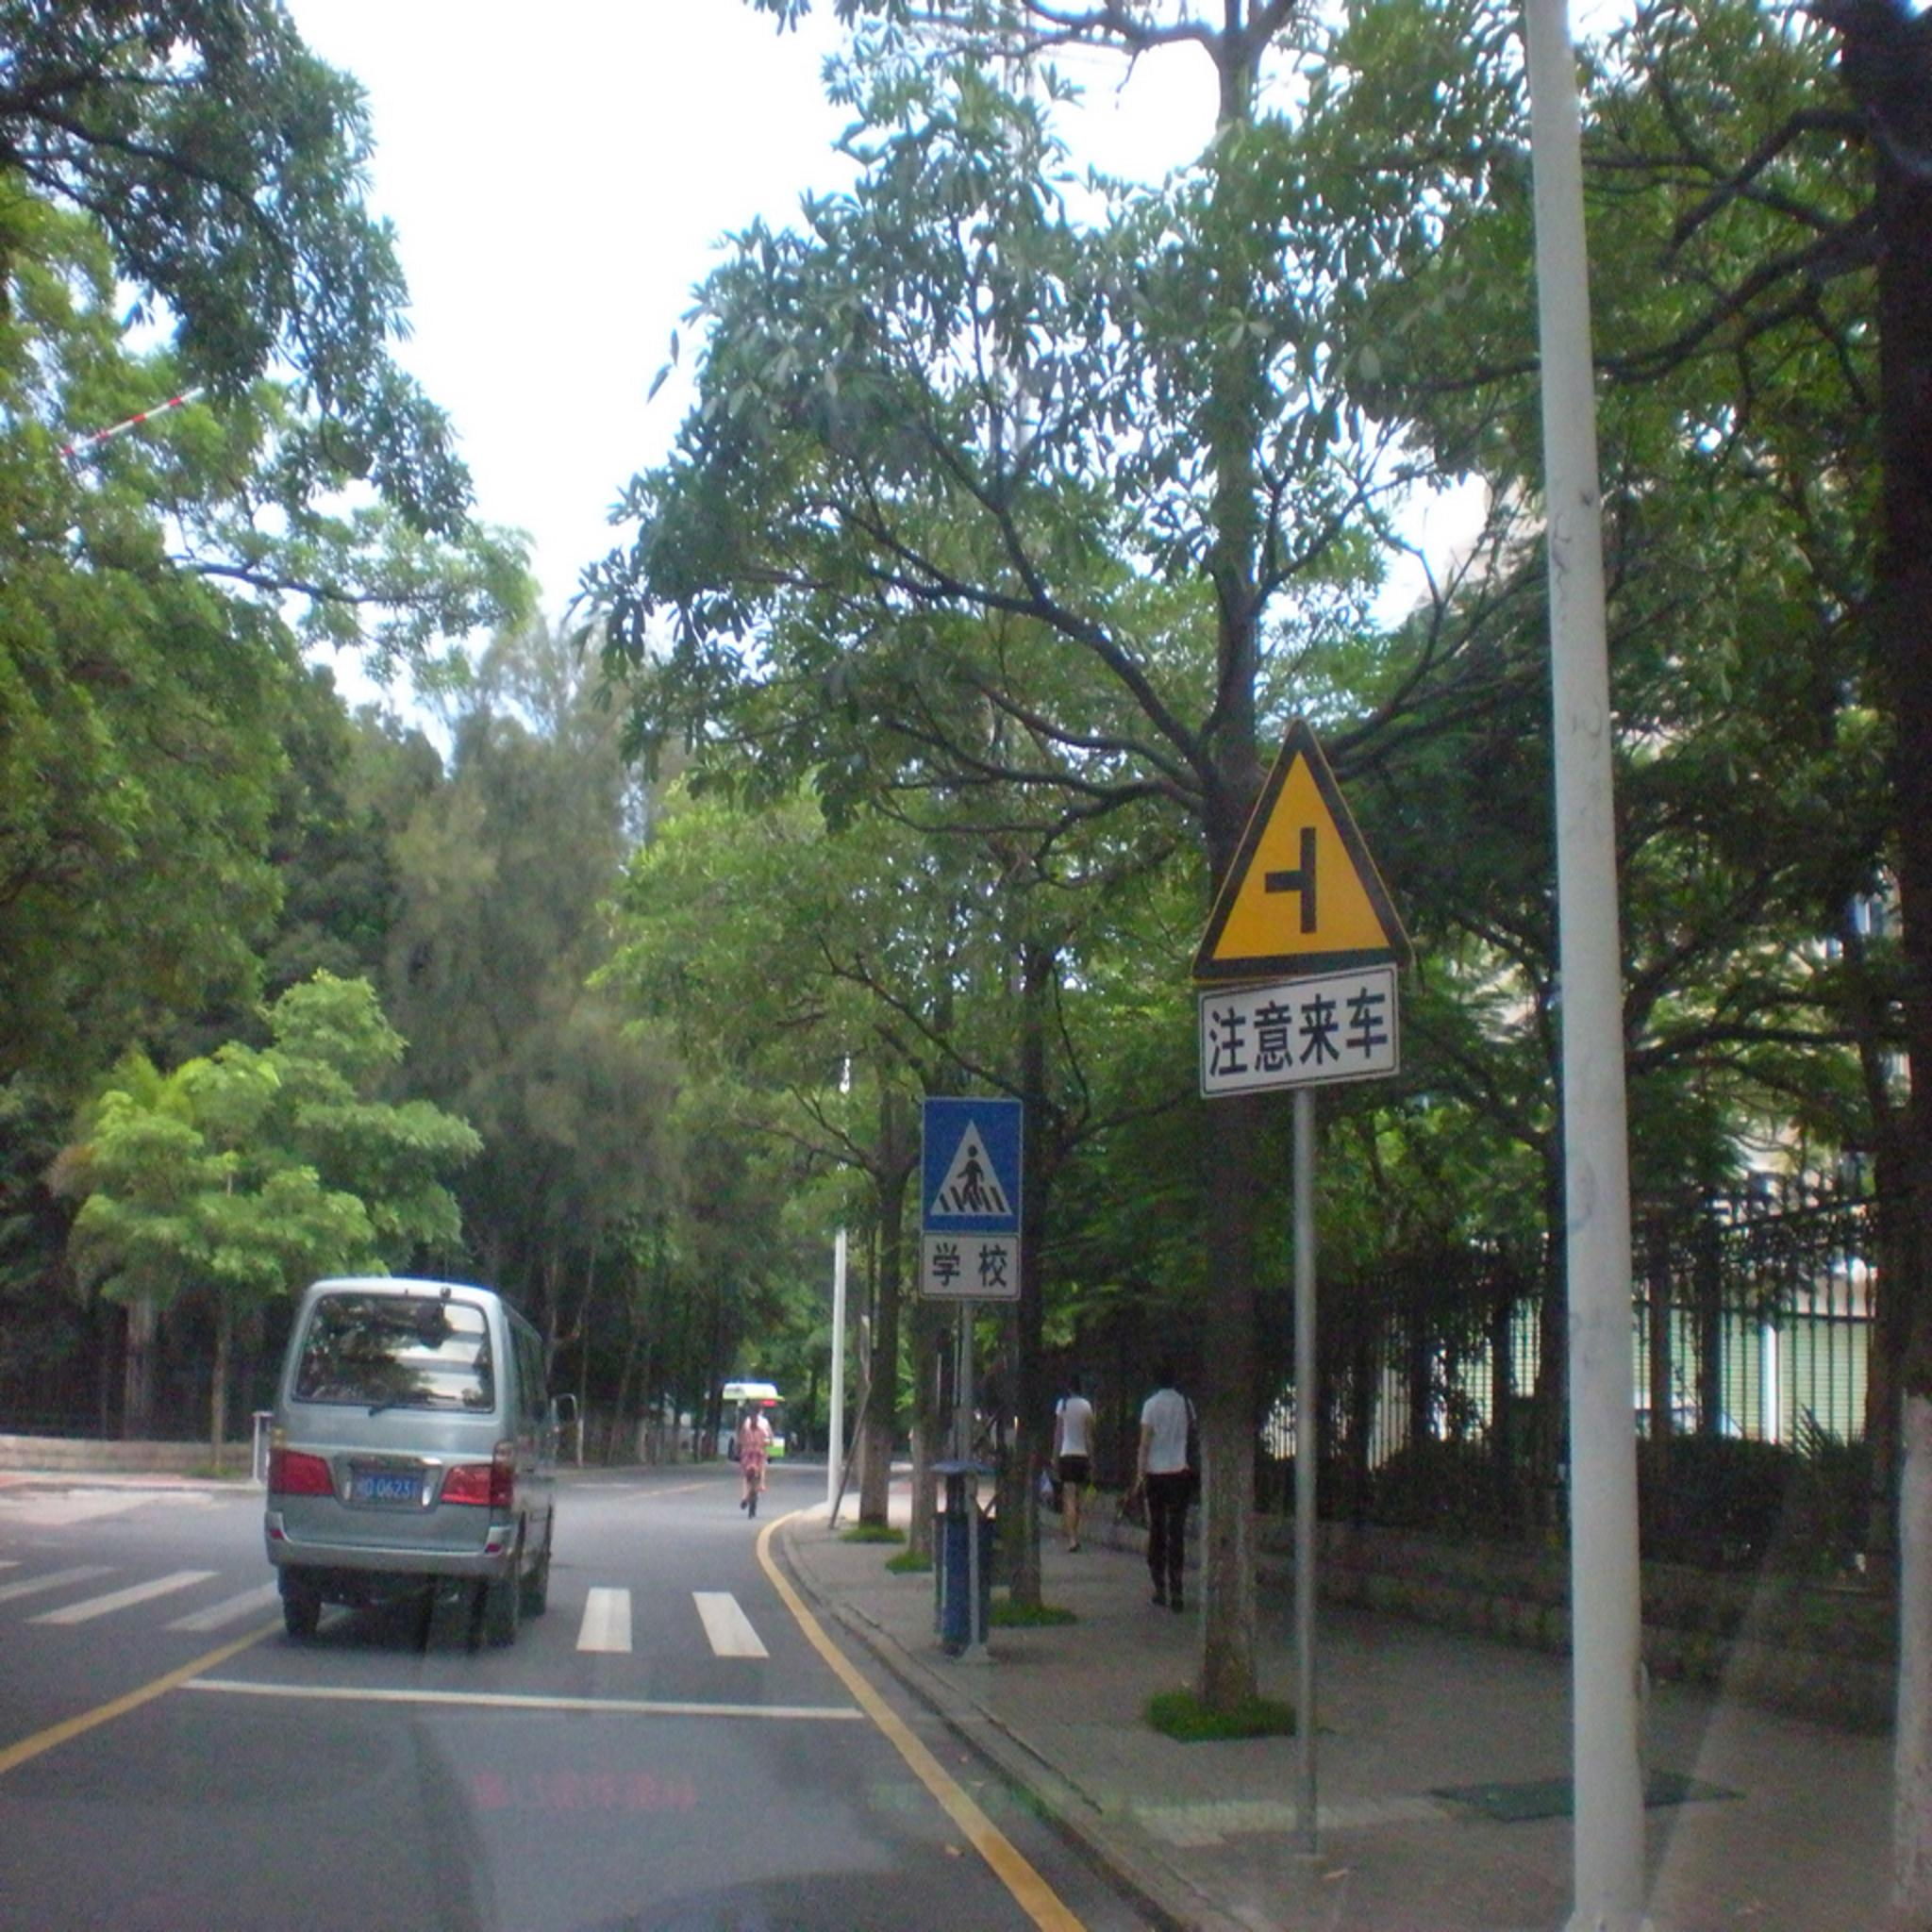ip: (920, 1090, 1030, 1235)
